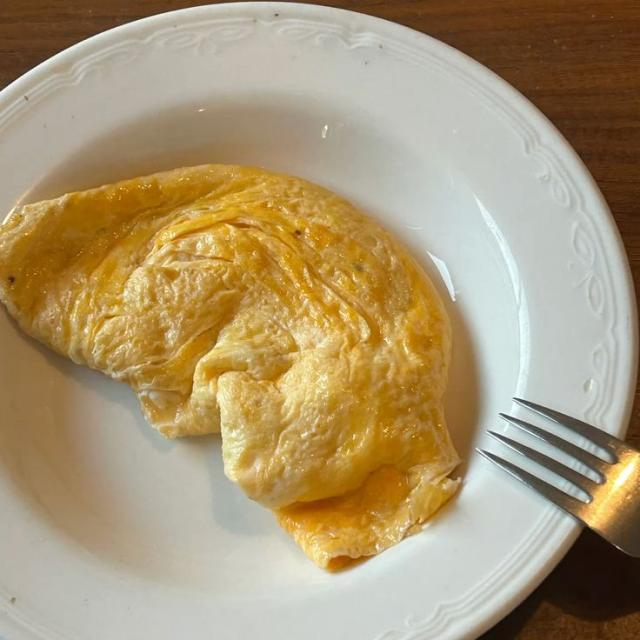omelette: (0, 166, 458, 568)
